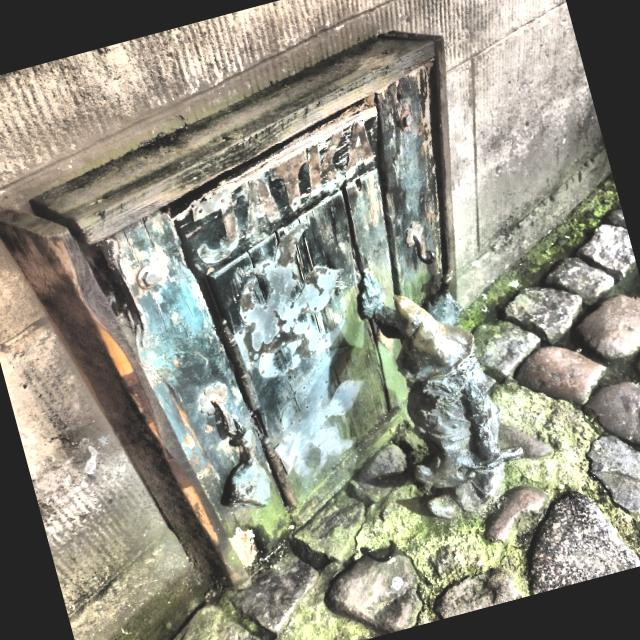Rzeznik: (360, 274, 521, 508)
